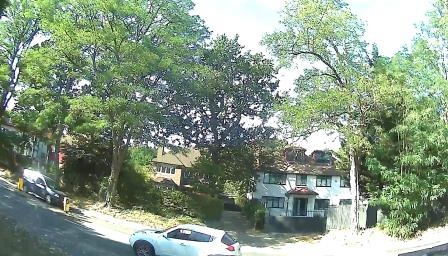Cars: (130, 227, 242, 256), (16, 168, 67, 207)
